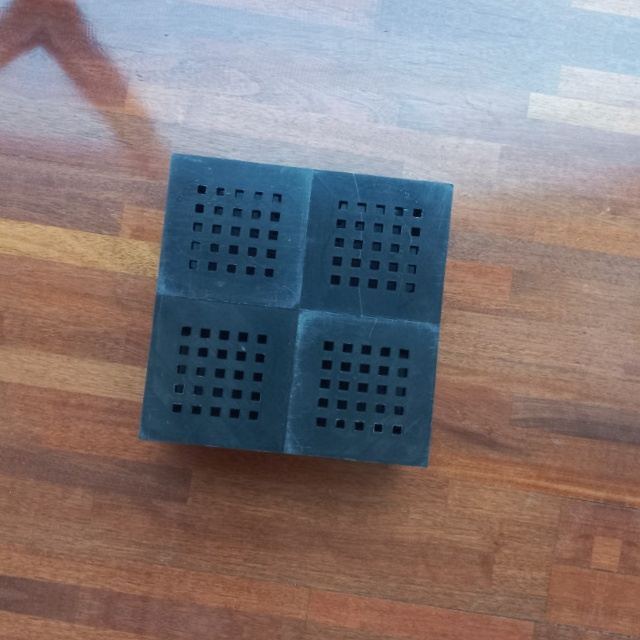pallet: (132, 142, 460, 481)
